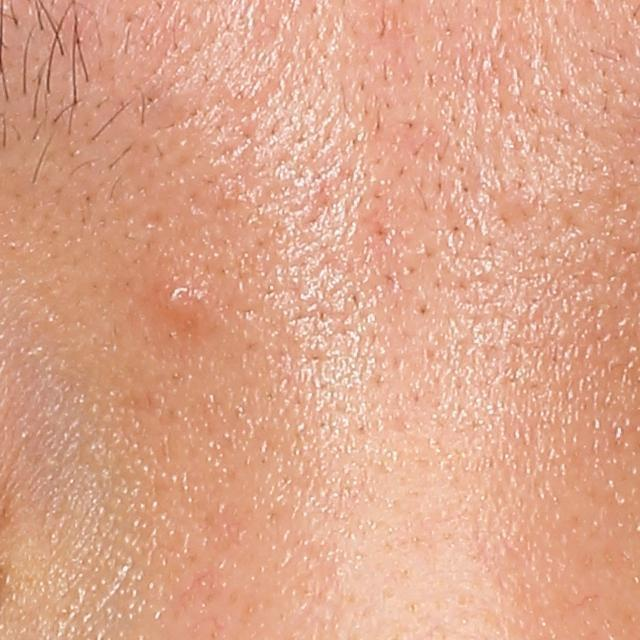papule: (148, 277, 215, 328)
